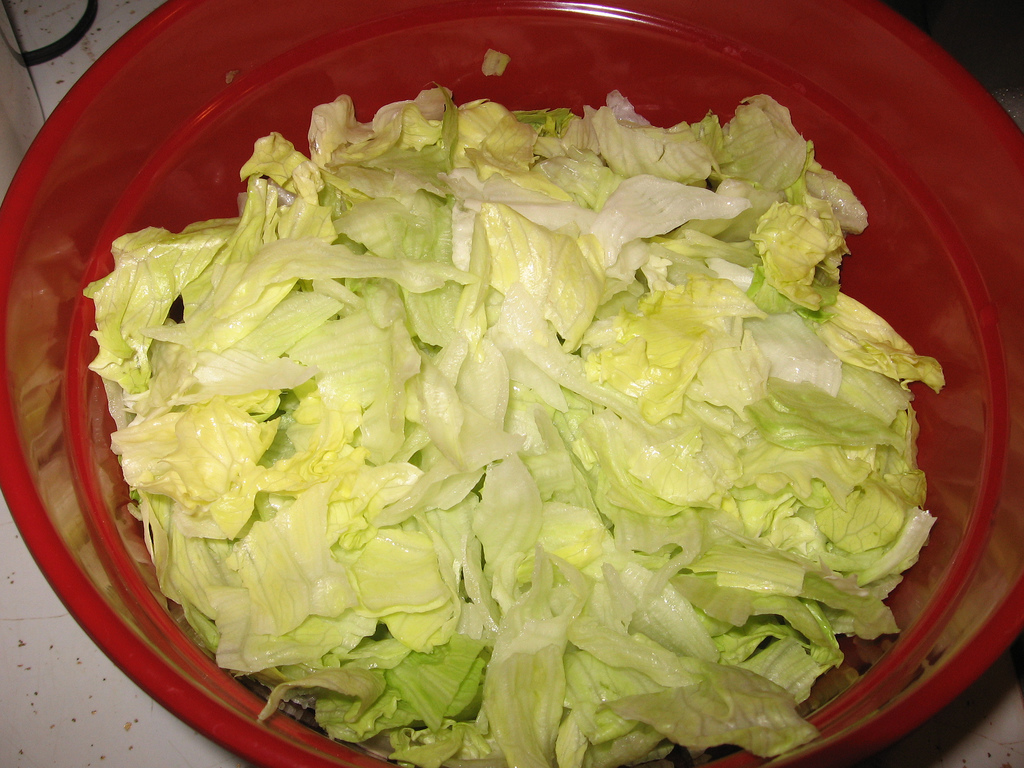chopped lettuce: (211, 161, 868, 684)
